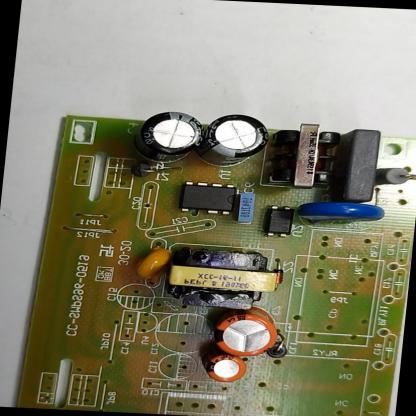Cap1: (204, 302, 287, 361)
Cap2: (199, 353, 251, 384)
Cap3: (190, 110, 272, 171)
Cap4: (122, 108, 210, 170)
MOSFET: (172, 178, 246, 218)
Mov: (288, 198, 392, 233)
Resistor: (365, 163, 415, 189)
Transformer: (154, 244, 290, 316), (258, 120, 344, 194)
